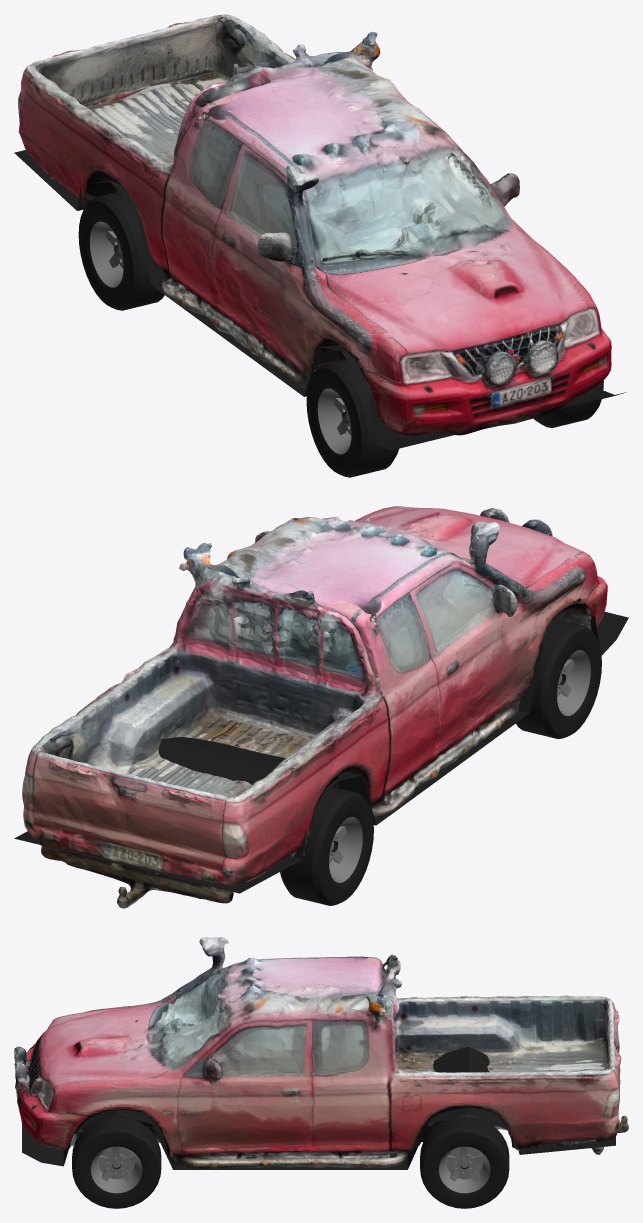
Rendered from BestMitsu.fbx.
3 views of the same model, one above another, from view 1: azimuth 30°, elevation 25°; view 2: azimuth 150°, elevation 25°; view 3: azimuth 270°, elevation 25° (orthographic). The views are drawn at different scales.
Parts seen in each view (by area): view 1: TheCarItself, TopRight, BackRight, Plane, TopLeft; view 2: TheCarItself, Plane, BackRight, TopRight; view 3: TheCarItself, BackLeft, TopLeft, Plane.
Boxes of the visible parts, x1,y1,x2,y2 form: TheCarItself: [18, 14, 611, 435]; TopRight: [306, 359, 399, 477]; BackRight: [78, 192, 164, 310]; Plane: [14, 132, 626, 450]; TopLeft: [533, 381, 603, 427]; TheCarItself: [22, 506, 607, 908]; Plane: [14, 597, 628, 893]; BackRight: [280, 787, 373, 905]; TopRight: [516, 620, 601, 739]; TheCarItself: [14, 937, 628, 1168]; BackLeft: [420, 1116, 509, 1208]; TopLeft: [72, 1116, 161, 1208]; Plane: [22, 1047, 615, 1169].
Bounding box in the file's own units: 196 × 190 × 524.
Materials: 3 (1 with a texture image).
